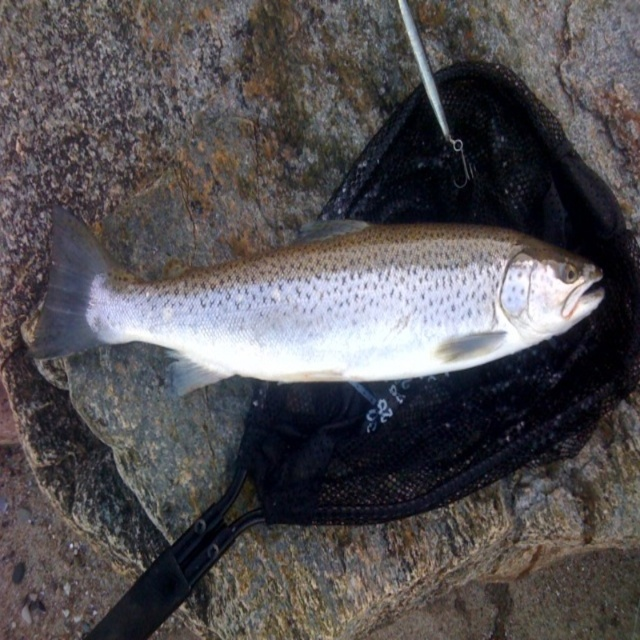Fish: (25, 205, 606, 399)
